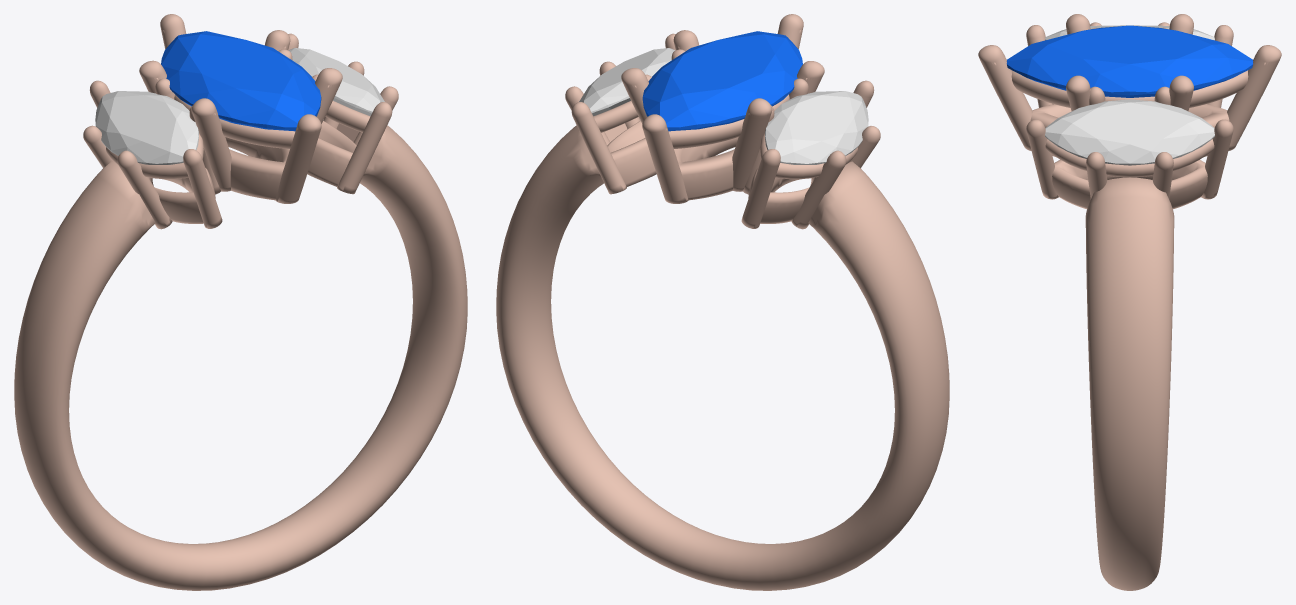
Rendered from bluesapphire-marquise-rosegold-6prong-taperedband-3stone.glb.
The picture shows the model from 3 angles, left to right: view 1: azimuth 30°, elevation 25°; view 2: azimuth 150°, elevation 25°; view 3: azimuth 270°, elevation 25°; orthographic projection.
Parts seen in each view (by area): view 1: metal.001, stone.001, side.003, side.002; view 2: metal.001, stone.001, side.003, side.002; view 3: metal.001, stone.001, side.002, side.003.
Part boxes in pixels (left/top/right/bottom): metal.001: left=14, top=14, right=467, bottom=590; stone.001: left=161, top=31, right=321, bottom=131; side.003: left=95, top=91, right=198, bottom=164; side.002: left=288, top=48, right=384, bottom=116; metal.001: left=496, top=14, right=949, bottom=590; stone.001: left=642, top=31, right=802, bottom=131; side.003: left=765, top=91, right=868, bottom=164; side.002: left=579, top=48, right=675, bottom=116; metal.001: left=978, top=14, right=1281, bottom=590; stone.001: left=1006, top=25, right=1253, bottom=97; side.002: left=1045, top=99, right=1214, bottom=165; side.003: left=1045, top=25, right=1214, bottom=40.
Bounding box in the file's own units: 20.09 × 22.73 × 11.96.
